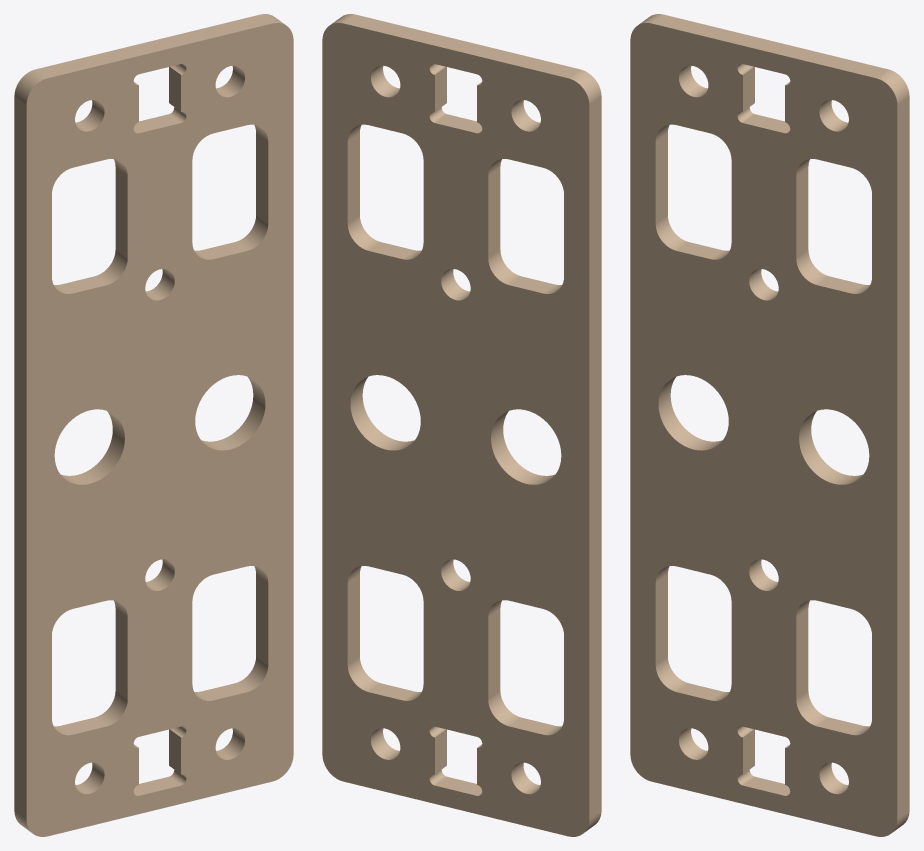
Rendered from fret wagon v17_fret wagon v17_wood version_1_bottom sheet_1_Body1.obj.
3 renders of one model, left to right at view 1: azimuth 30°, elevation 25°; view 2: azimuth 150°, elevation 25°; view 3: azimuth 330°, elevation 25°, orthographic.
Visible parts, largest first — view 1: Body1; view 2: Body1; view 3: Body1.
Boxes of the visible parts, x1,y1,x2,y2 form: Body1: [14, 14, 293, 836]; Body1: [322, 14, 601, 836]; Body1: [630, 14, 909, 836].
Bounding box in the file's own units: 38 × 103 × 3.
